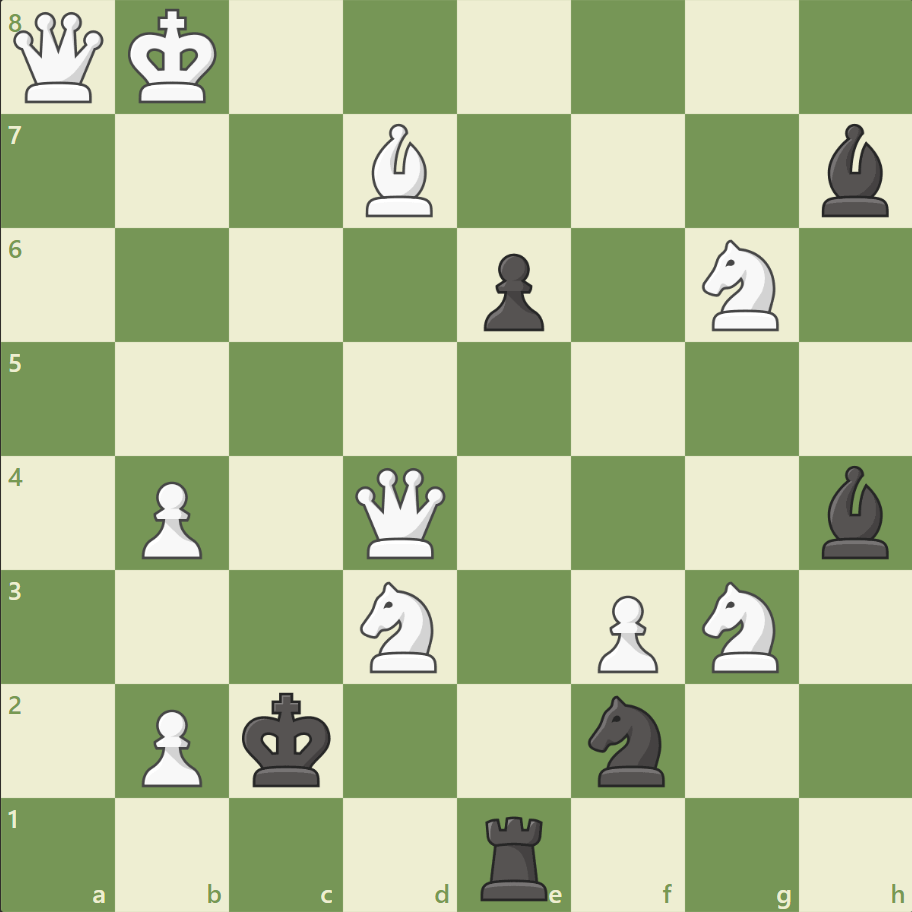B: (358, 120, 442, 222)
K: (124, 4, 224, 112)
N: (351, 575, 449, 677), (692, 234, 789, 337), (692, 575, 789, 677)
P: (133, 473, 208, 564), (133, 700, 208, 791), (588, 586, 662, 677)
Q: (10, 9, 109, 108), (351, 463, 450, 562)
b: (812, 460, 896, 563), (812, 120, 896, 222)
k: (238, 685, 338, 793)
n: (579, 688, 676, 791)
p: (474, 246, 549, 337)
r: (473, 806, 556, 904)
